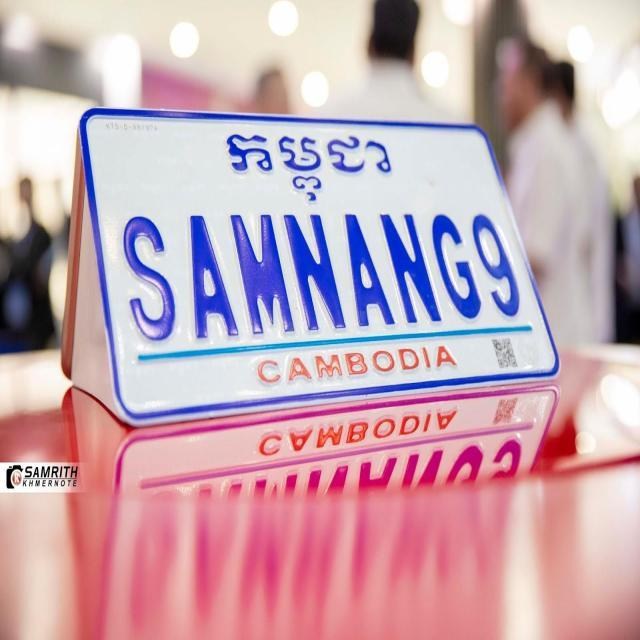Cambodia: (223, 127, 392, 202)
